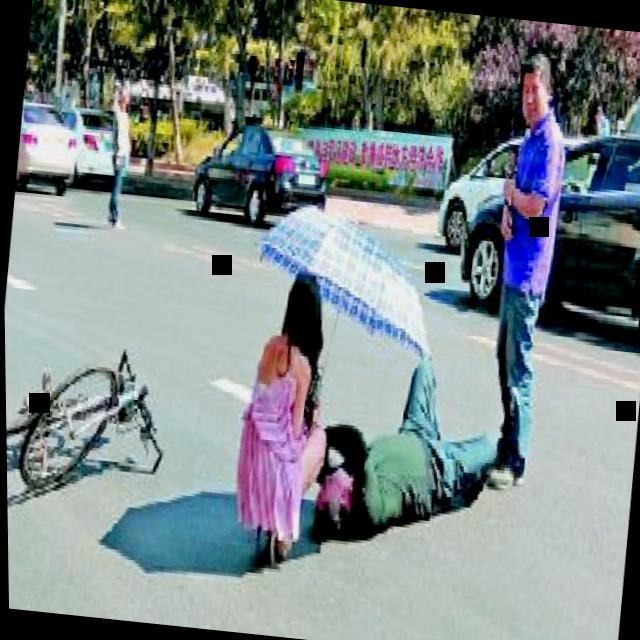Fall-Detected: (290, 328, 512, 570)
